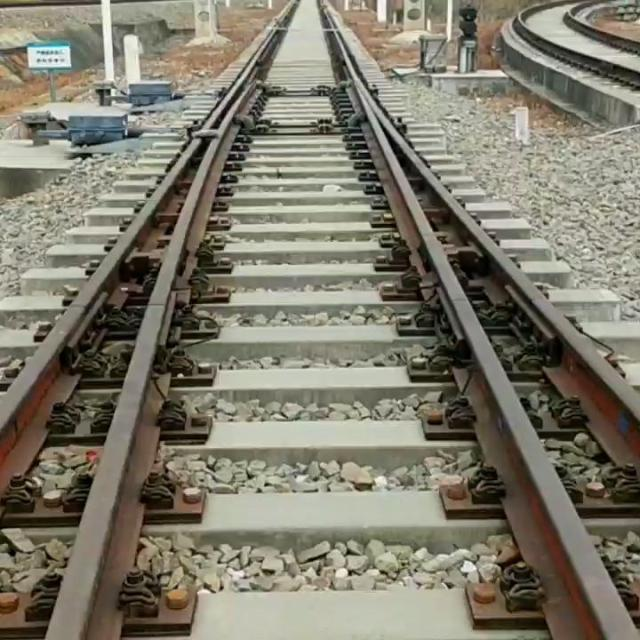rail: (317, 1, 640, 494), (347, 83, 622, 640), (1, 2, 293, 484), (46, 86, 255, 640), (512, 2, 640, 89), (562, 1, 640, 56)
